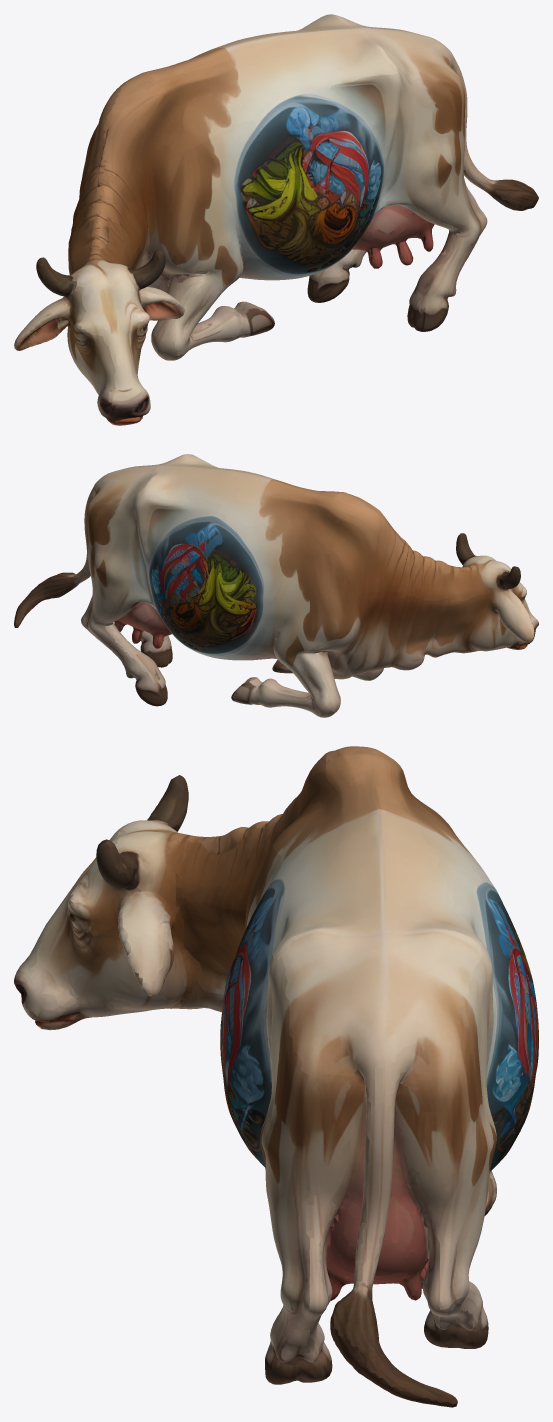
Rendered from 04_cow_sick.glb.
The picture shows the model from 3 angles, top to bottom: view 1: azimuth 30°, elevation 25°; view 2: azimuth 150°, elevation 25°; view 3: azimuth 270°, elevation 25°; orthographic projection. The views are drawn at different scales.
Parts seen in each view (by area): view 1: textured_mesh.obj; view 2: textured_mesh.obj; view 3: textured_mesh.obj.
Boxes of the visible parts, box(x1,y1,x2,y2) form: textured_mesh.obj: box(14, 14, 538, 425); textured_mesh.obj: box(14, 454, 538, 717); textured_mesh.obj: box(14, 746, 538, 1407).
Bounding box in the file's own units: 1.99 × 0.9669 × 1.01.
Materials: 1 (1 with a texture image).
